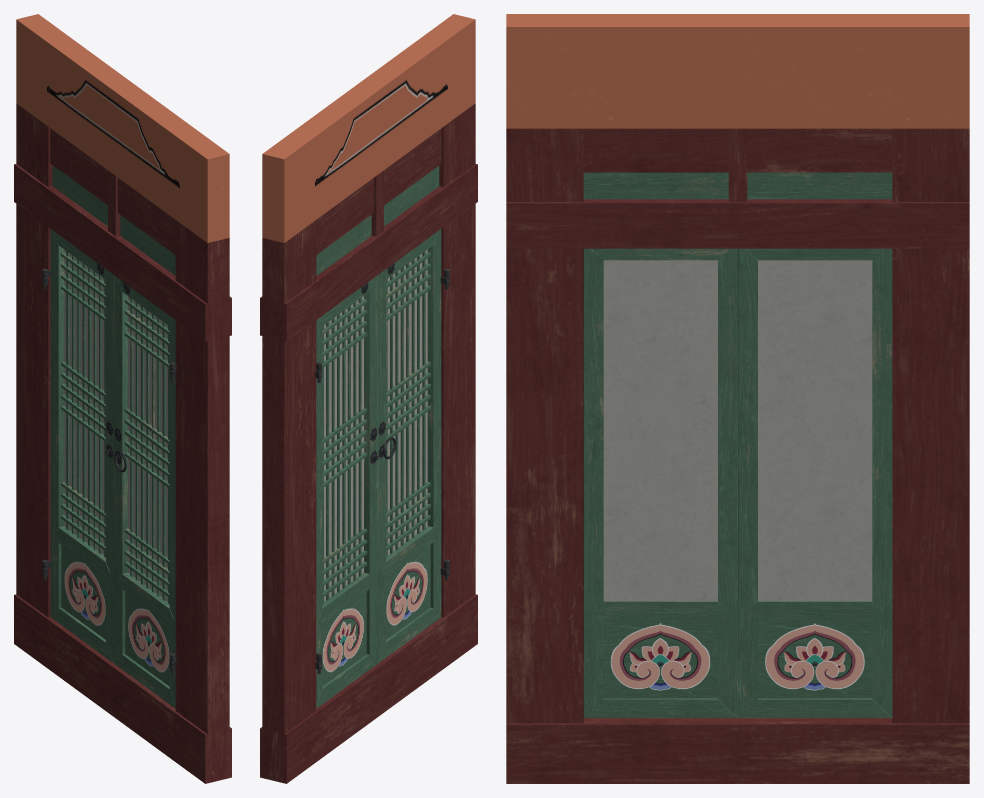
File: SM_CGJ_Wall01b.fbx
The picture shows the model from 3 angles, left to right: view 1: azimuth 30°, elevation 25°; view 2: azimuth 150°, elevation 25°; view 3: azimuth 270°, elevation 25°; orthographic projection. The views are drawn at different scales.
Visible parts, largest first — view 1: SM_CGJ_Wall01b; view 2: SM_CGJ_Wall01b; view 3: SM_CGJ_Wall01b.
Part boxes in pixels (x1=…): SM_CGJ_Wall01b: x1=14, y1=14, x2=231, y2=783; SM_CGJ_Wall01b: x1=260, y1=14, x2=477, y2=783; SM_CGJ_Wall01b: x1=506, y1=14, x2=969, y2=783.
Bounding box in the file's own units: 13.46 × 150 × 270.
Materials: 6 (6 with a texture image).
